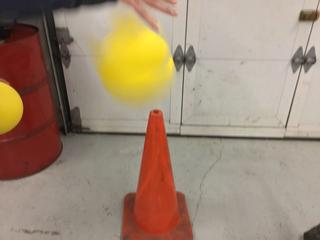power_cell: (96, 20, 177, 106), (1, 79, 26, 138)
